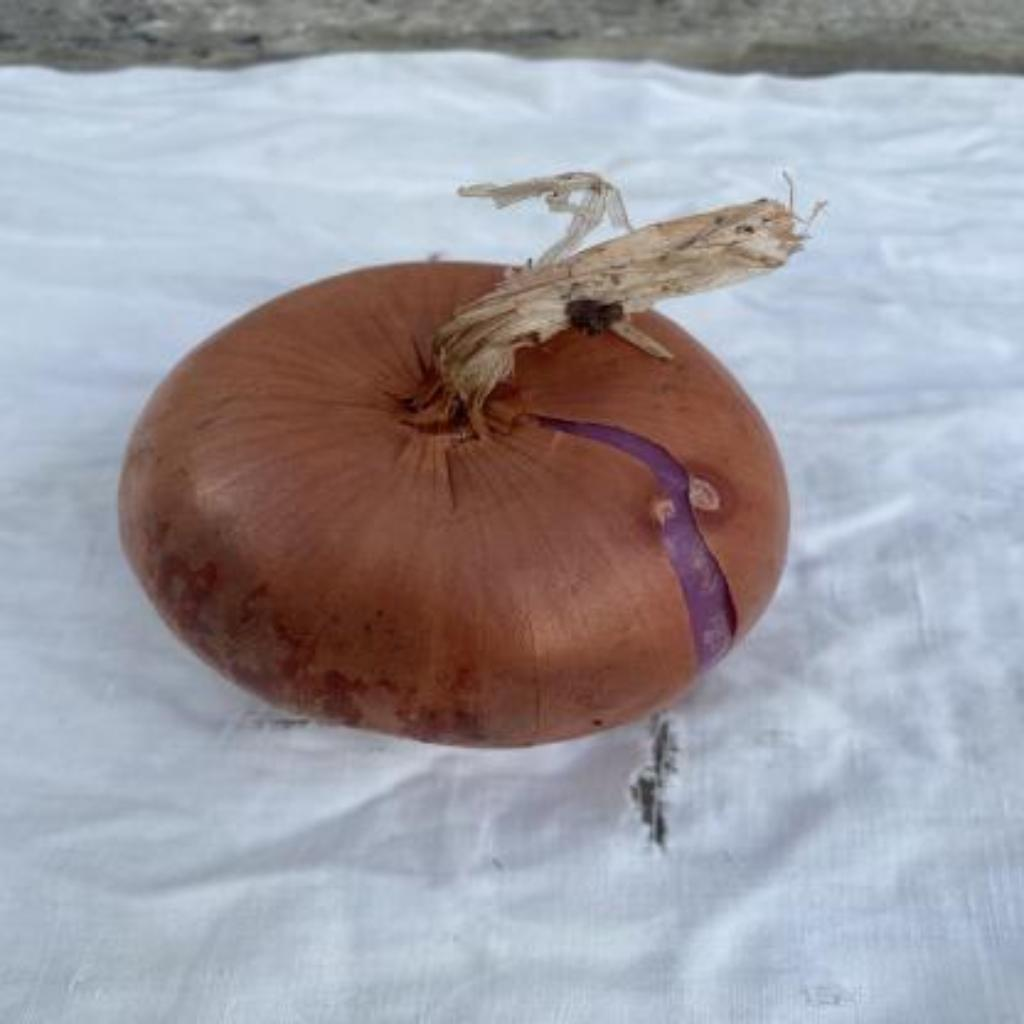Onion: (121, 172, 810, 747)
